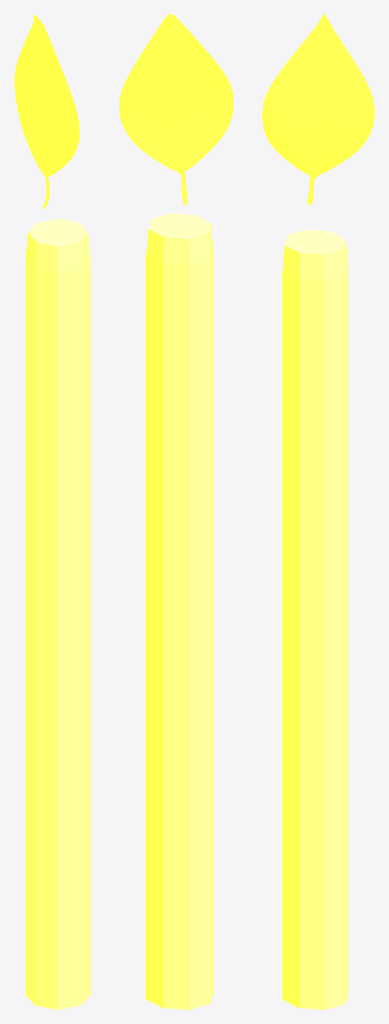
Rendered from varinha de condão blend (1).fbx.
The picture shows the model from 3 angles, left to right: view 1: azimuth 90°, elevation 25°; view 2: azimuth 150°, elevation 25°; view 3: azimuth 330°, elevation 25°; orthographic projection. The views are drawn at different scales.
Parts seen in each view (by area): view 1: Cylinder, Plane; view 2: Cylinder, Plane; view 3: Cylinder, Plane.
Boxes of the visible parts, bbox=[...] form: Cylinder: bbox=[25, 218, 90, 1009]; Plane: bbox=[14, 14, 79, 209]; Cylinder: bbox=[146, 213, 213, 1009]; Plane: bbox=[119, 14, 233, 204]; Cylinder: bbox=[282, 229, 348, 1009]; Plane: bbox=[262, 14, 374, 204].
Size of the model in its own units: 126 by 1449 by 102.
